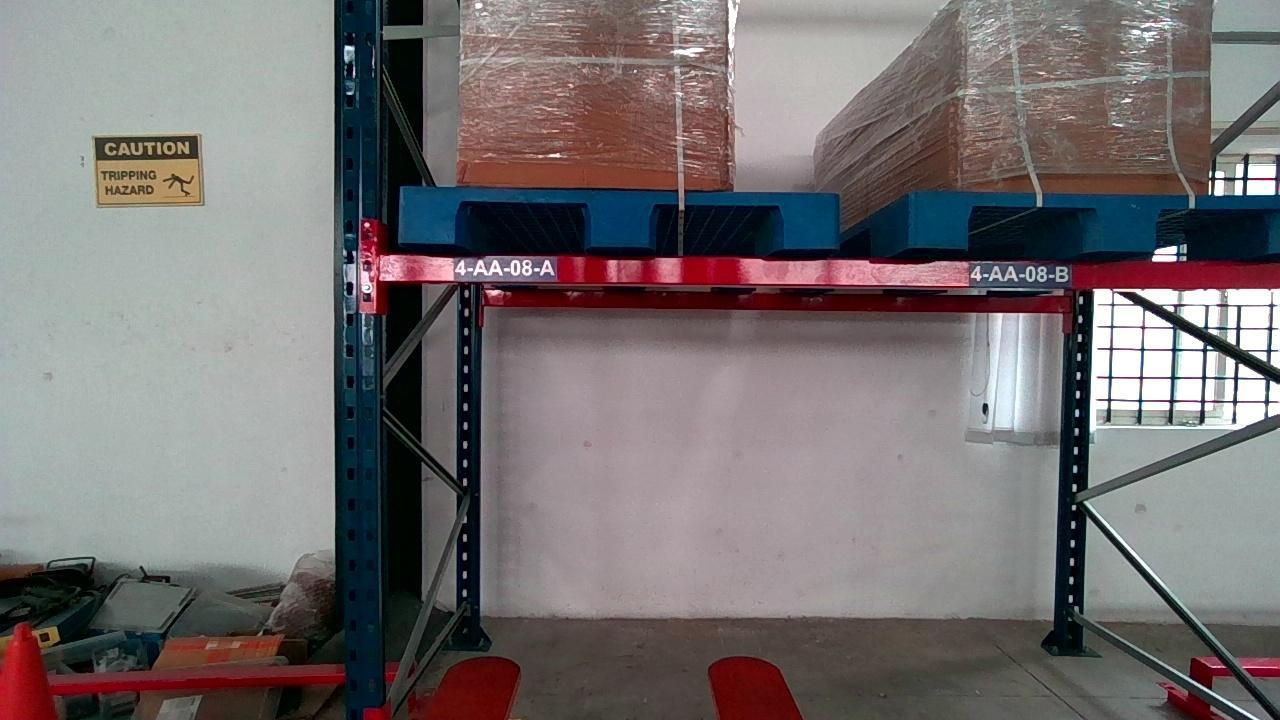h_rack: (383, 257, 1280, 286)
small_pallet: (399, 186, 841, 247), (912, 193, 1280, 253)
